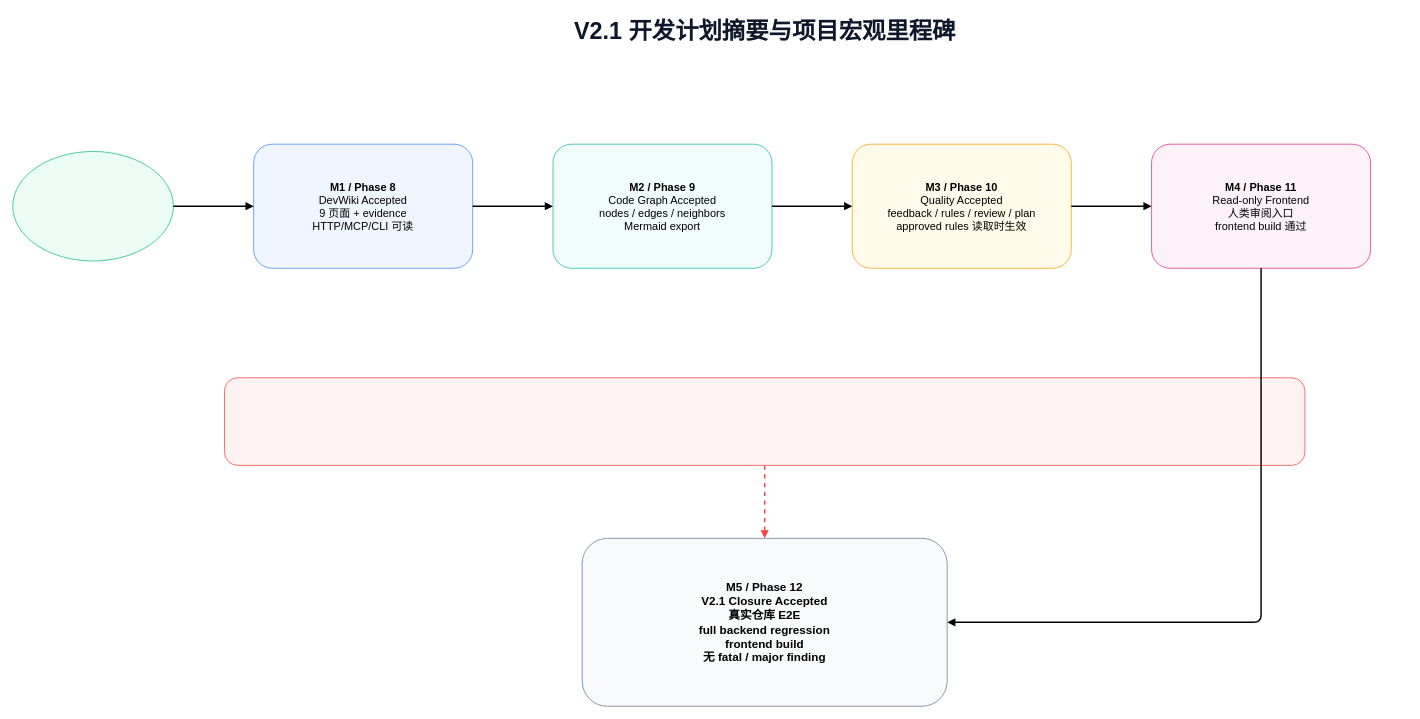
This 1420x719 diagram has some shape labels left out. Each missing label, with the centre of its shape:
M0 V2.0 Closure 已完成 Agent-callable MVP: point (92, 206)
每个阶段进入开发前 阶段开发计划 + 阶段验收计划 + 阶段审计报告；无新增 fatal / major 偏差；真实数据验收标准已定义。: point (764, 421)
